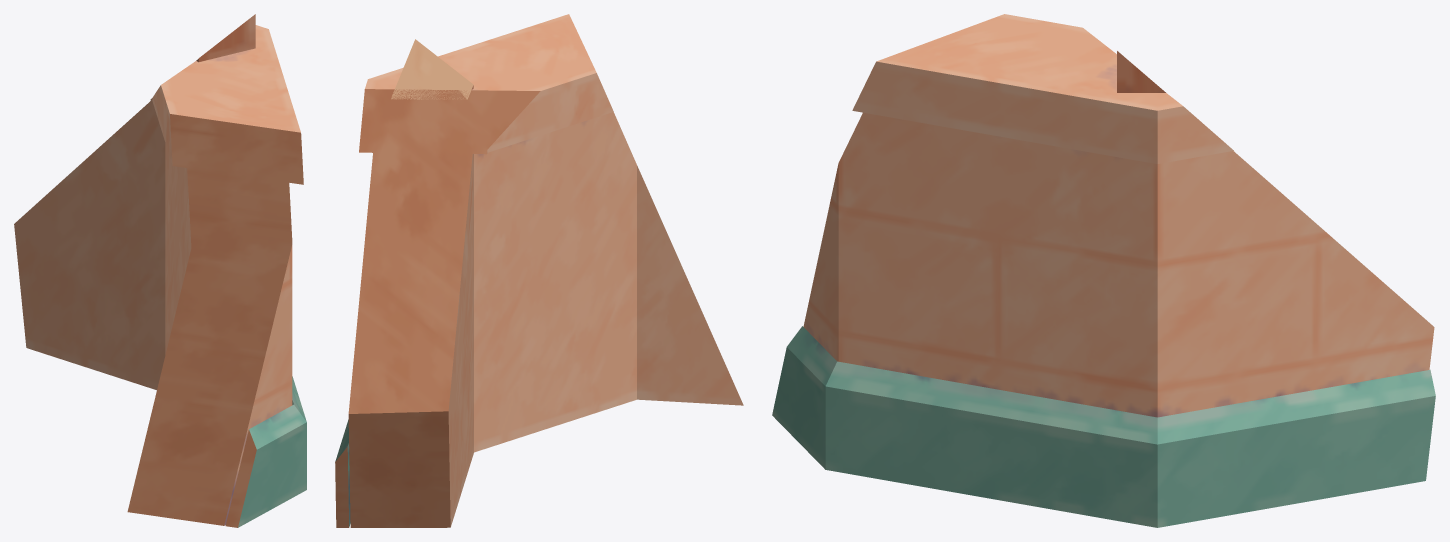
Rendered from well_s02.fbx.
3 renders of one model, left to right at view 1: azimuth 30°, elevation 25°; view 2: azimuth 150°, elevation 25°; view 3: azimuth 270°, elevation 25°, orthographic. The views are drawn at different scales.
Visible parts, largest first — view 1: well_s02; view 2: well_s02; view 3: well_s02.
Boxes of the visible parts, left/top/right/bottom form: well_s02: left=14, top=14, right=306, bottom=527; well_s02: left=335, top=14, right=743, bottom=527; well_s02: left=772, top=14, right=1435, bottom=527.
Bounding box in the file's own units: 1.96 × 2.75 × 3.61.
